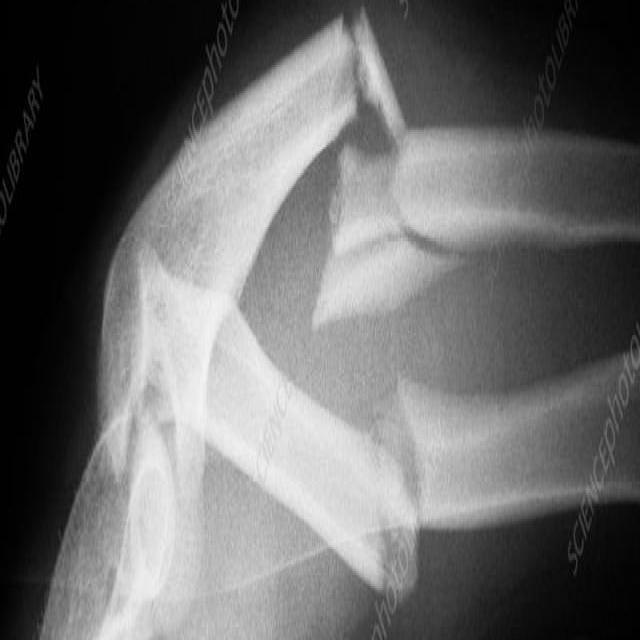comminuted: (316, 16, 439, 610)
